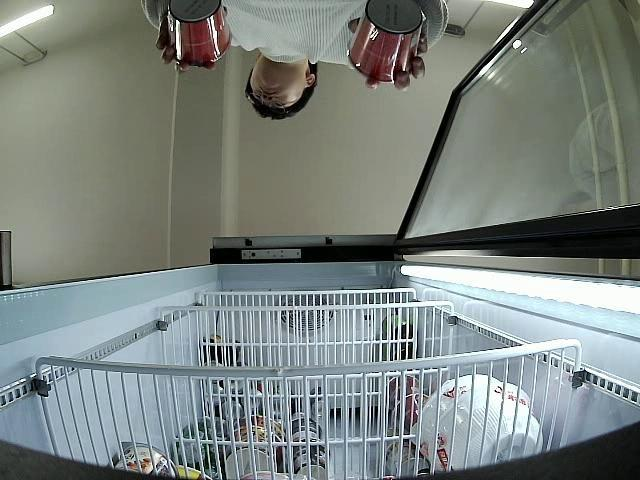02_shinRamen_S: (345, 0, 425, 84), (167, 0, 234, 68)
